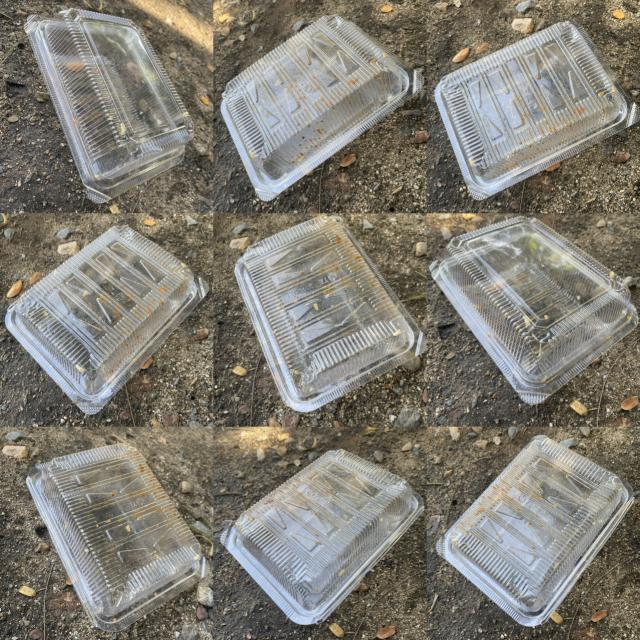Single-Use-Plastic: (429, 216, 639, 404), (5, 226, 209, 414), (436, 435, 634, 626), (221, 15, 424, 201), (235, 216, 425, 412), (435, 21, 640, 200), (220, 450, 424, 624), (26, 444, 204, 631), (24, 9, 194, 203), (269, 216, 368, 259)
